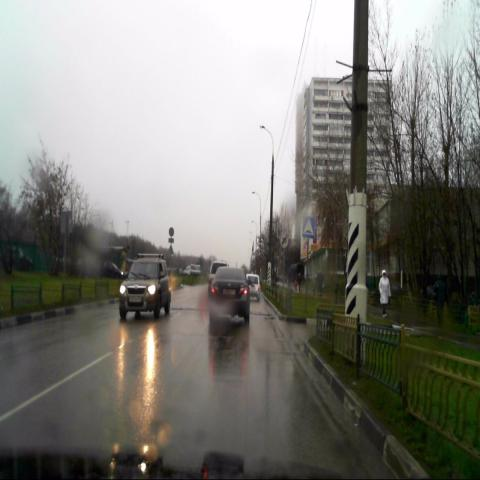5_20: (302, 216, 315, 238)
